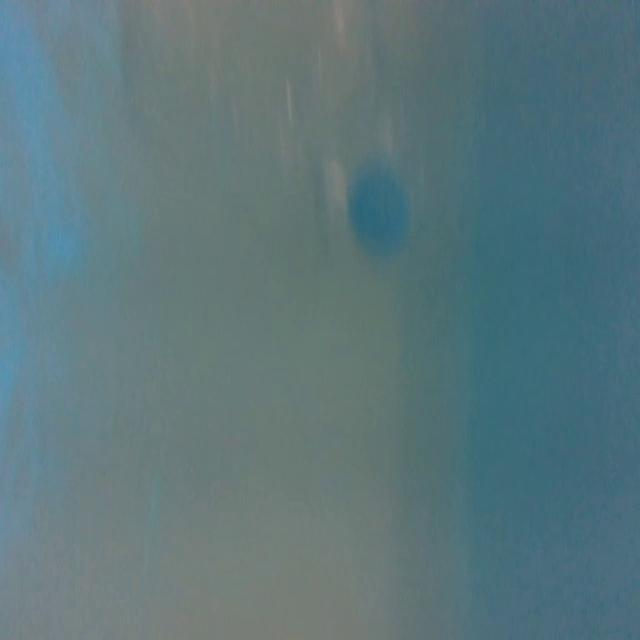plastic bottle: (254, 10, 446, 260)
